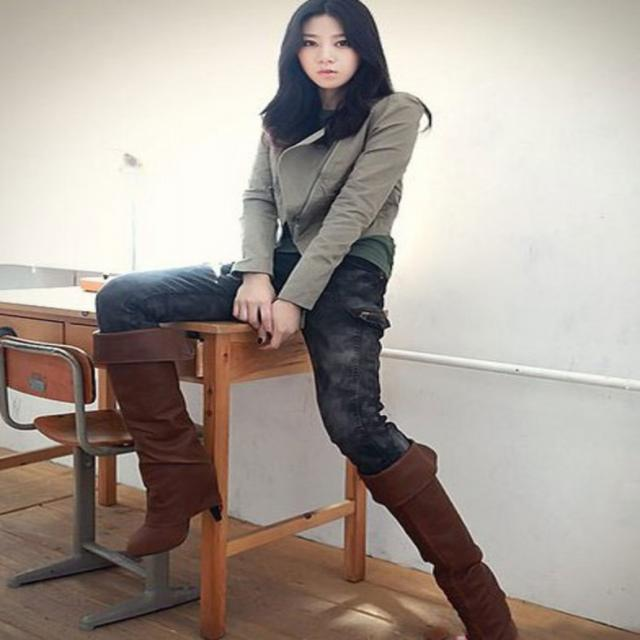chair: (0, 332, 146, 582)
desk: (0, 273, 390, 638)
person: (90, 0, 511, 638)
